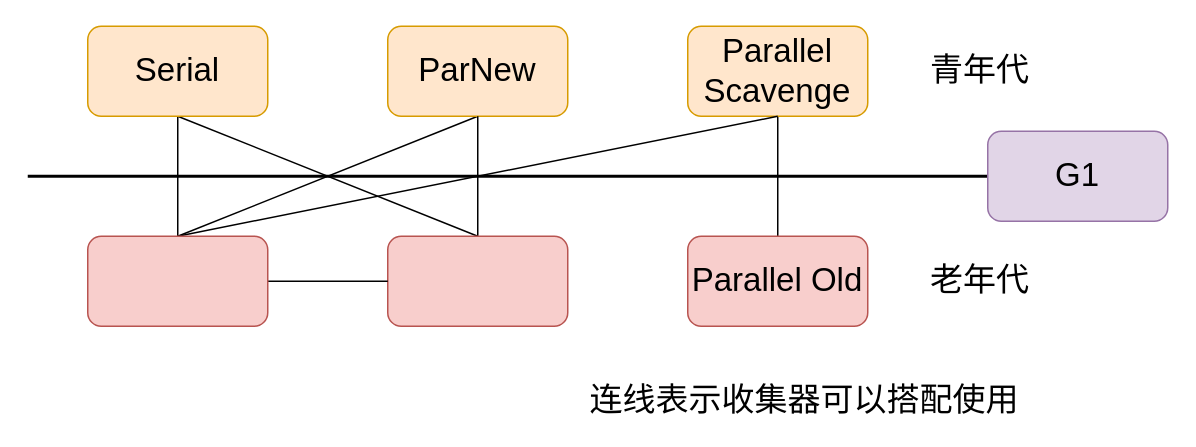
This 1196x447 diagram has some shape labels left out. The shapes that lost their labels are listed below. From the top down, each one's box as (x1, y1, x2, y2) in pixels, then its label:
(86, 235, 268, 326): Serial Old (MSC)
(386, 235, 568, 326): CMS
